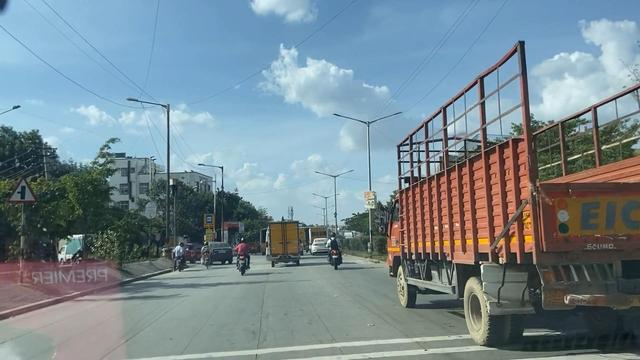HMV: (379, 109, 640, 360), (263, 215, 307, 269)
LMV: (325, 232, 343, 264), (239, 238, 249, 280)
